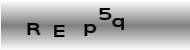5: (98, 7, 111, 20)
E: (51, 23, 66, 38)
R: (26, 22, 40, 35)
p: (82, 23, 96, 36)
q: (112, 17, 125, 30)
